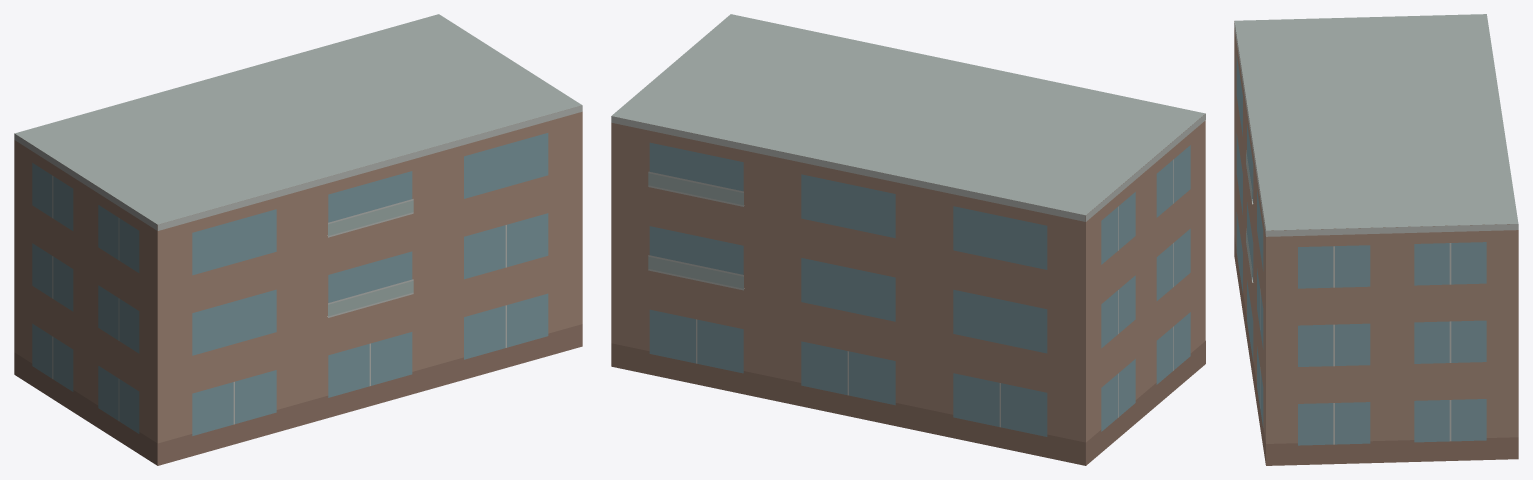
File: survey-upis-32704612.glb
The picture shows the model from 3 angles, left to right: view 1: azimuth 30°, elevation 25°; view 2: azimuth 150°, elevation 25°; view 3: azimuth 270°, elevation 25°; orthographic projection. The views are drawn at different scales.
Visible parts, largest first — view 1: survey-upis-32704612.tmp; view 2: survey-upis-32704612.tmp; view 3: survey-upis-32704612.tmp.
Boxes of the visible parts, x1,y1,x2,y2 form: survey-upis-32704612.tmp: (14,14,582,465); survey-upis-32704612.tmp: (611,14,1205,465); survey-upis-32704612.tmp: (1234,14,1518,465).
Size of the model in its own units: 18.07 by 9.15 by 10.02.
